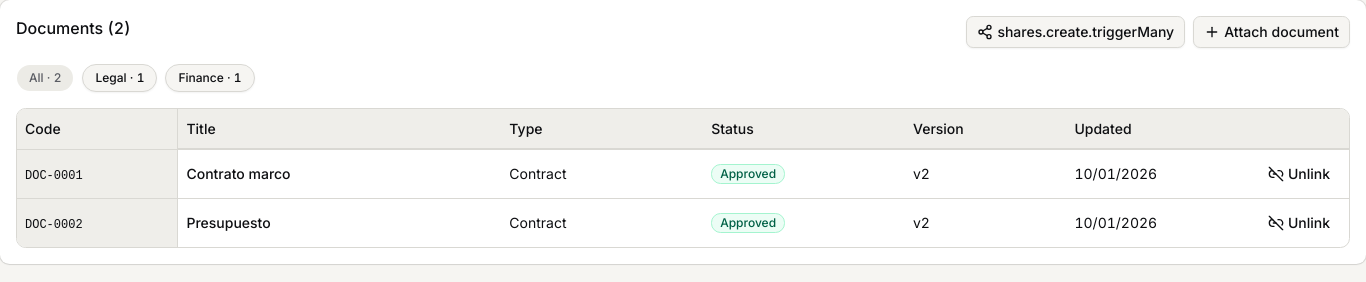
EntityDocumentsTab › filters the rows by category with a chip and goes back to every document with All
Click the button "Finance · 1": coordinates (210, 78) [165, 64, 255, 92]
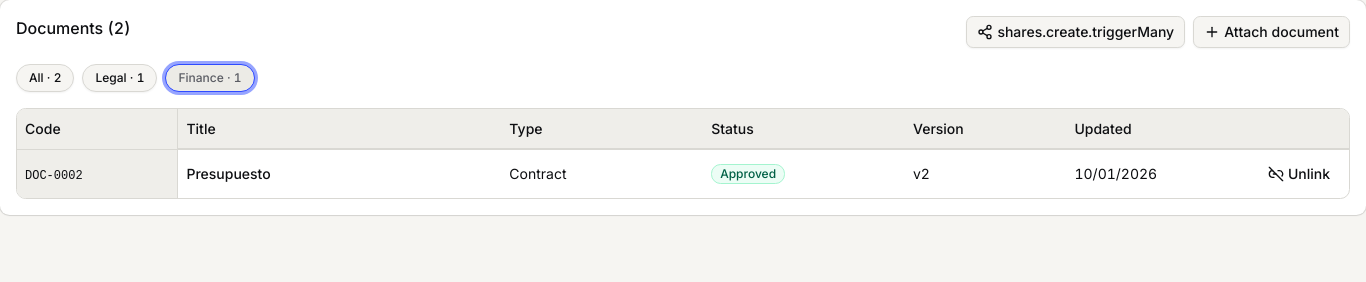
Expected: the row "DOC-0002 Presupuesto Contract Approved v2 10/01/2026 Unlink" is shown, [17, 149, 1349, 198]
Expected: the text "DOC-0001" is gone
Click the button "All · 2": coordinates (45, 78) [16, 64, 74, 92]
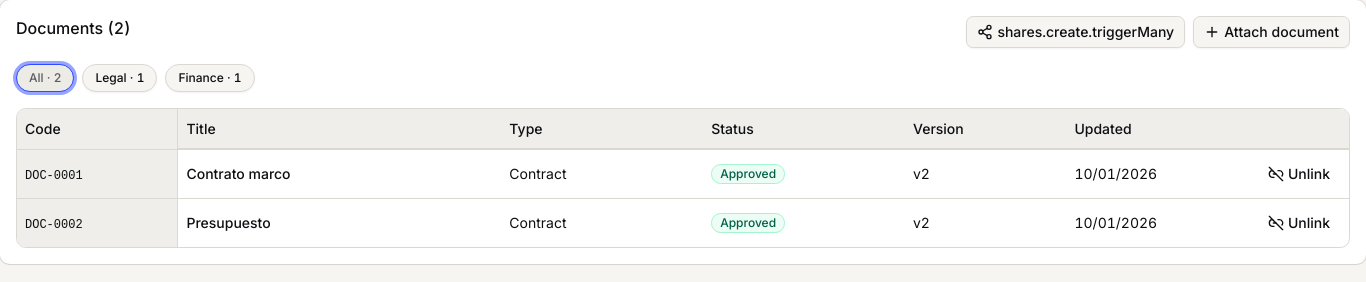
Expected: the row "DOC-0002 Presupuesto Contract Approved v2 10/01/2026 Unlink" is shown, [17, 198, 1349, 246]
Expected: the row "DOC-0001" is shown, [17, 149, 1349, 198]
